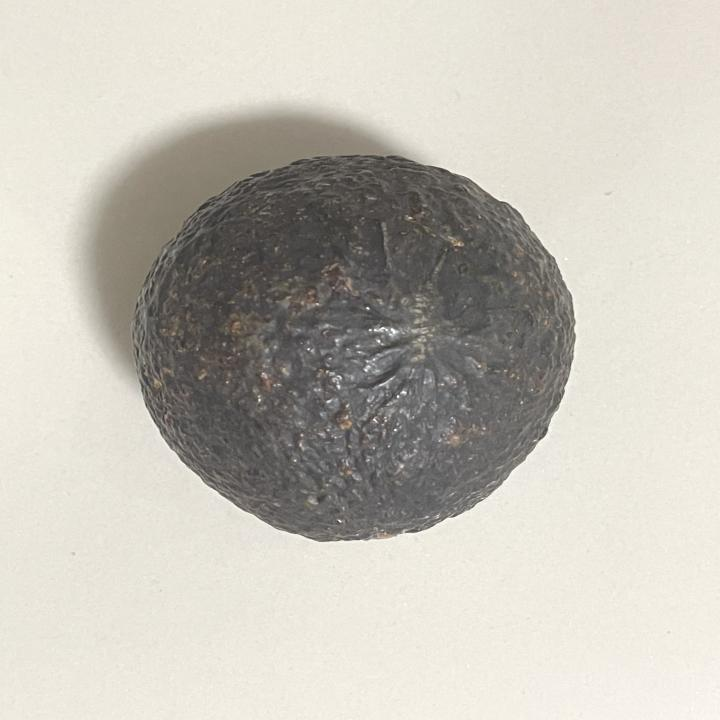Level1: (126, 147, 590, 559)
